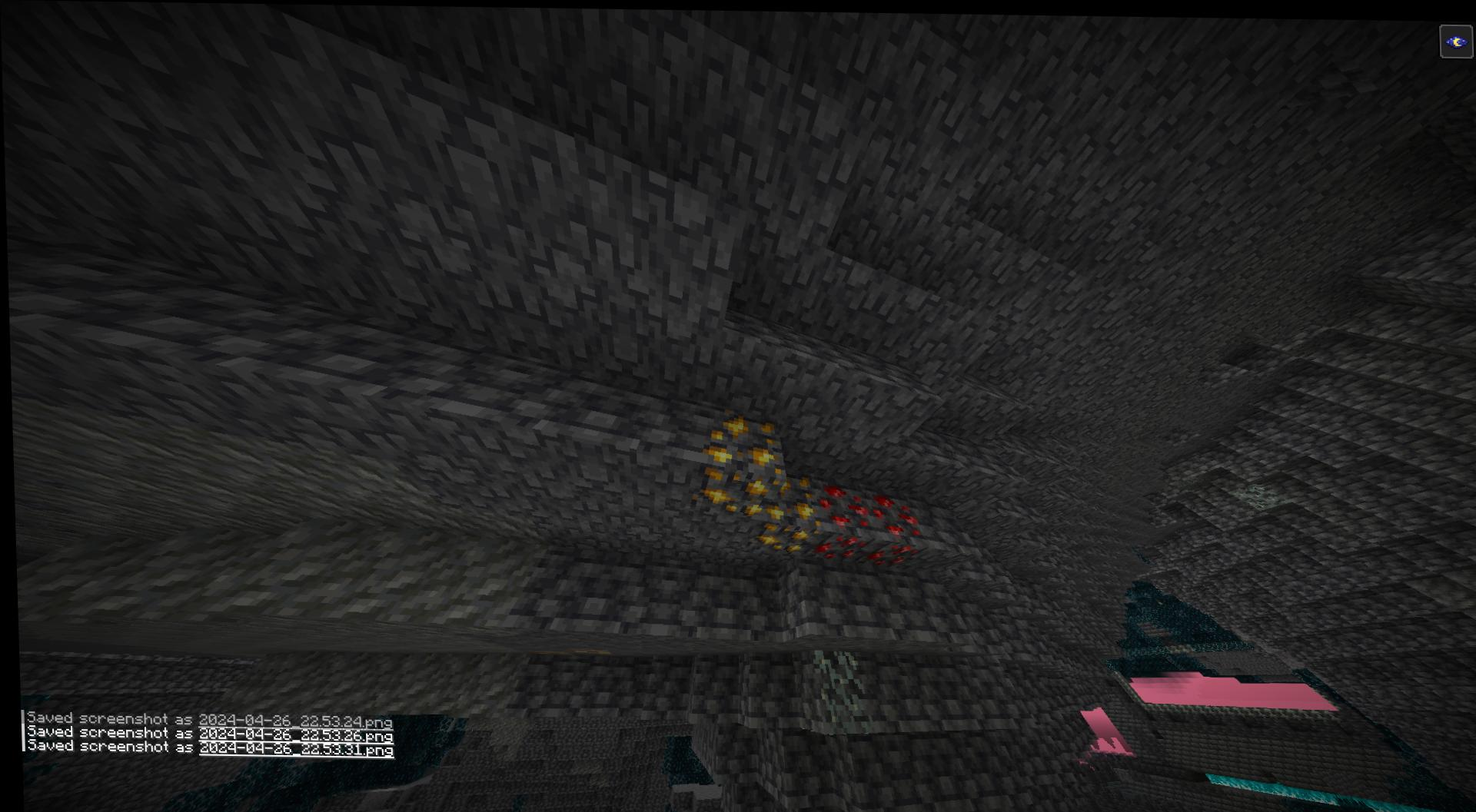gold ore: (699, 410, 777, 467), (696, 469, 766, 515), (766, 469, 816, 521), (753, 521, 808, 551)
redstone ore: (816, 477, 869, 531), (869, 487, 919, 537), (866, 538, 917, 571), (815, 532, 869, 558)
